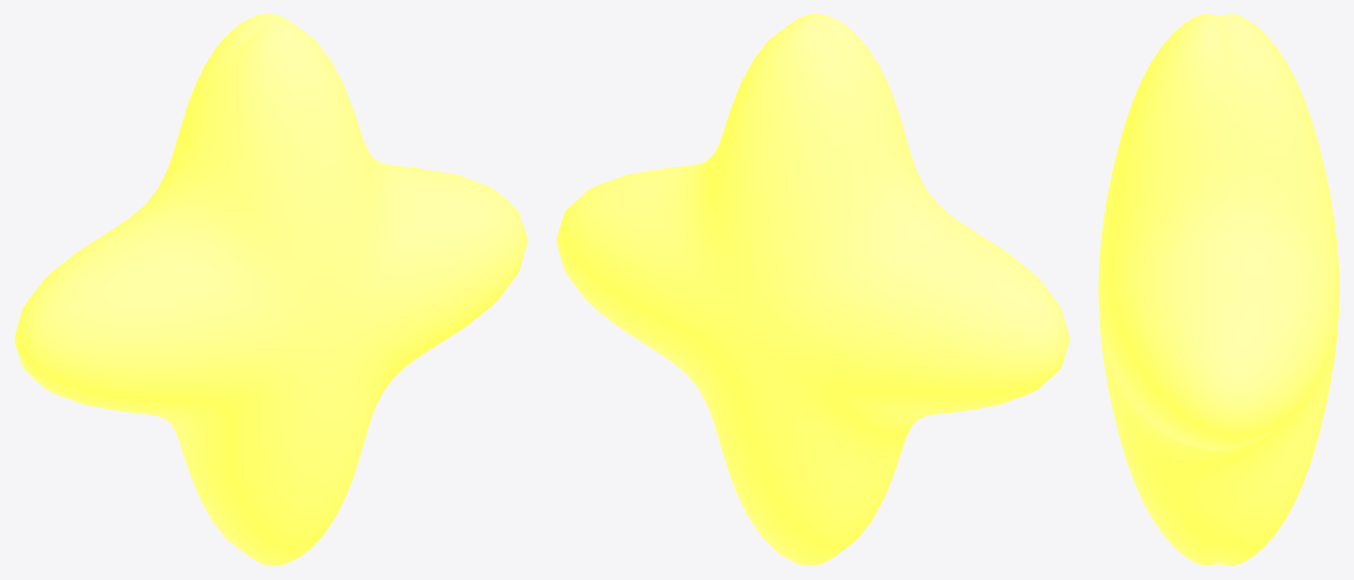
File: spark.glb
The picture shows the model from 3 angles, left to right: view 1: azimuth 30°, elevation 25°; view 2: azimuth 150°, elevation 25°; view 3: azimuth 270°, elevation 25°; orthographic projection.
Parts seen in each view (by area): view 1: Star; view 2: Star; view 3: Star.
Boxes of the visible parts, x1,y1,x2,y2 form: Star: (14, 14, 527, 565); Star: (556, 14, 1069, 565); Star: (1098, 14, 1339, 565).
Bounding box in the file's own units: 0.5736 × 0.5949 × 0.2369.
